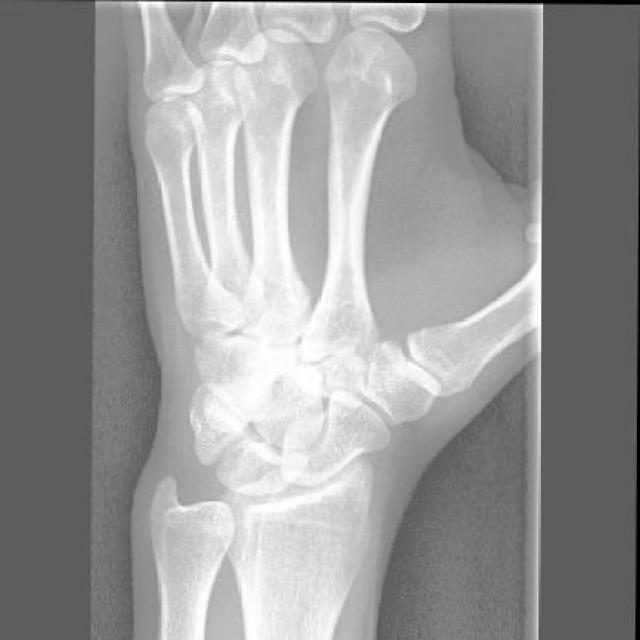Fracture: (253, 334, 304, 390)
